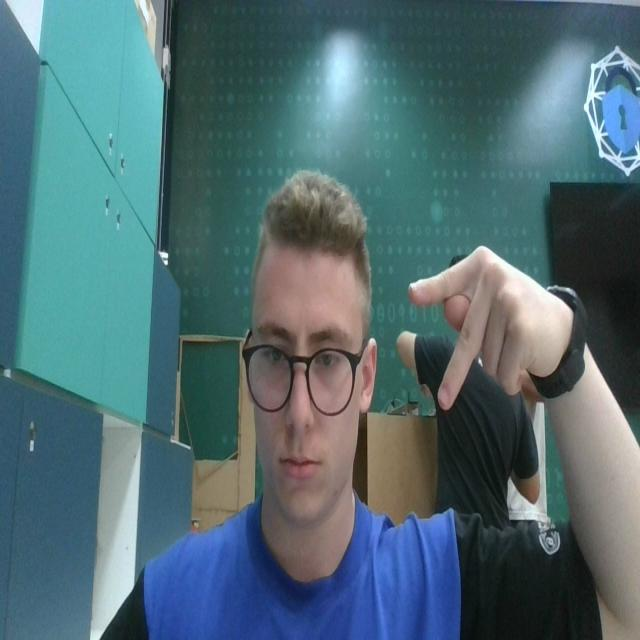P: (407, 240, 551, 416)
